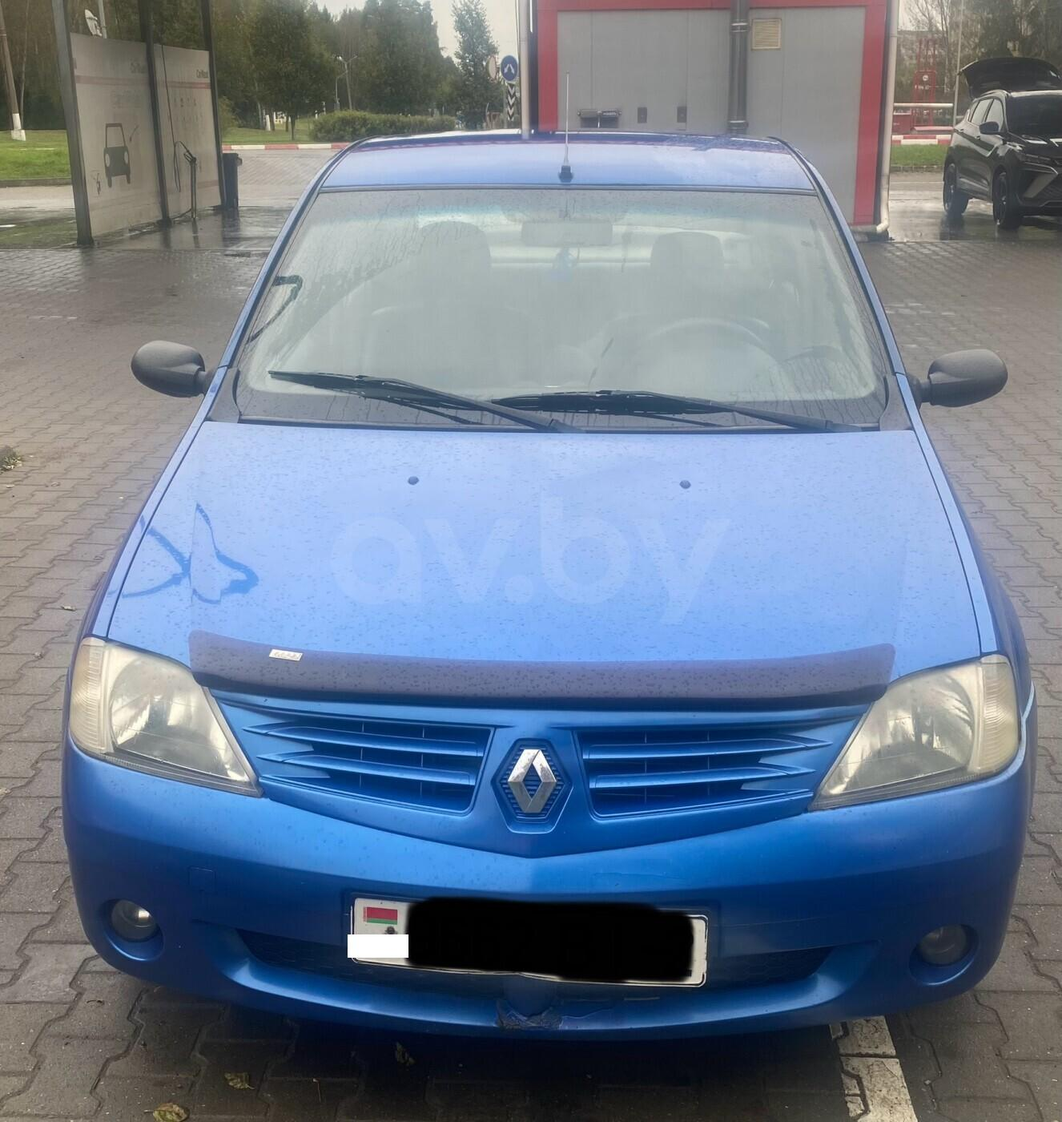Logan_2004-2009: (53, 123, 1041, 1055)
